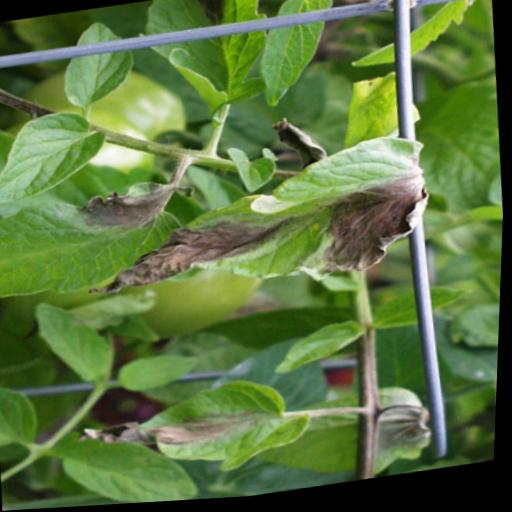Healthy: (0, 108, 114, 205)
Late Blight: (85, 128, 439, 314), (0, 160, 201, 324), (74, 373, 319, 497)
